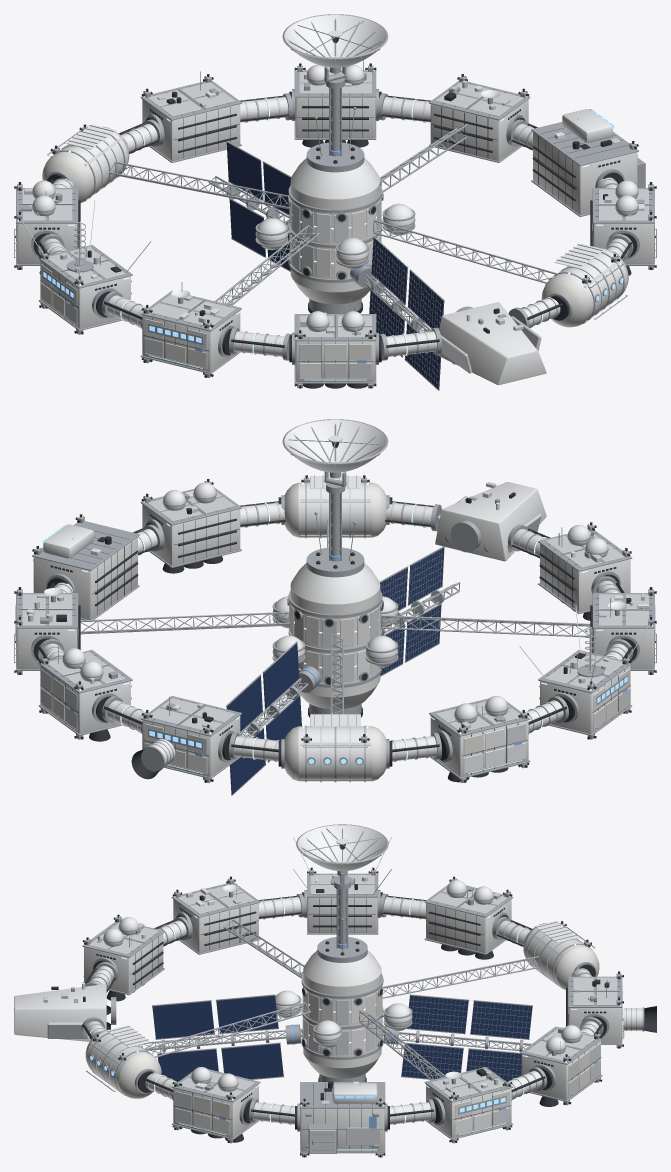
The model's file is sentinel_ship.glb.
The picture shows the model from 3 angles, top to bottom: view 1: azimuth 30°, elevation 25°; view 2: azimuth 150°, elevation 25°; view 3: azimuth 270°, elevation 25°; orthographic projection. The views are drawn at different scales.
Parts seen in each view (by area): view 1: Ship_Hull, Ship_Metal, Ship_HullPanel, Ship_Dark, Ship_Solar, Ship_HullWarm, Dish_Dish, Ship_Radiator, Dish_Metal, Ship_Light; view 2: Ship_Hull, Ship_Metal, Ship_HullPanel, Ship_Dark, Ship_Solar, Ship_HullWarm, Dish_Dish, Dish_Metal, Ship_Radiator, Ship_Light, Ship_Window; view 3: Ship_Hull, Ship_Metal, Ship_Solar, Ship_HullPanel, Ship_Dark, Ship_HullWarm, Dish_Dish, Ship_Radiator, Dish_Metal, BayDoor_HullPanel, Ship_Light.
Boxes of the visible parts, x1,y1,x2,y2 form: Ship_Hull: (16,64,654,385); Ship_Metal: (14,60,656,390); Ship_HullPanel: (16,72,654,379); Ship_Dark: (14,63,656,388); Ship_Solar: (226,143,444,389); Ship_HullWarm: (40,126,628,368); Dish_Dish: (284,15,386,59); Ship_Radiator: (20,124,604,281); Dish_Metal: (282,14,388,82); Ship_Light: (47,98,620,380); Ship_Hull: (16,482,654,781); Ship_Metal: (14,475,656,795); Ship_HullPanel: (16,482,654,782); Ship_Dark: (14,475,656,782); Ship_Solar: (226,548,444,794); Ship_HullWarm: (16,482,630,781); Dish_Dish: (284,420,386,464); Dish_Metal: (282,419,388,487); Ship_Radiator: (310,476,650,726); Ship_Light: (47,503,619,773); Ship_Window: (15,525,655,764); Ship_Hull: (14,878,642,1151); Ship_Metal: (71,869,644,1157); Ship_Solar: (152,995,532,1081); Ship_HullPanel: (43,874,622,1145); Ship_Dark: (51,867,656,1157); Ship_HullWarm: (85,923,599,1118); Dish_Dish: (297,825,387,864); Ship_Radiator: (106,837,578,1047); Dish_Metal: (296,824,388,885); BayDoor_HullPanel: (309,1129,335,1153); Ship_Light: (88,898,590,1150).
Size of the model in its own units: 20.92 by 9.69 by 22.9.
